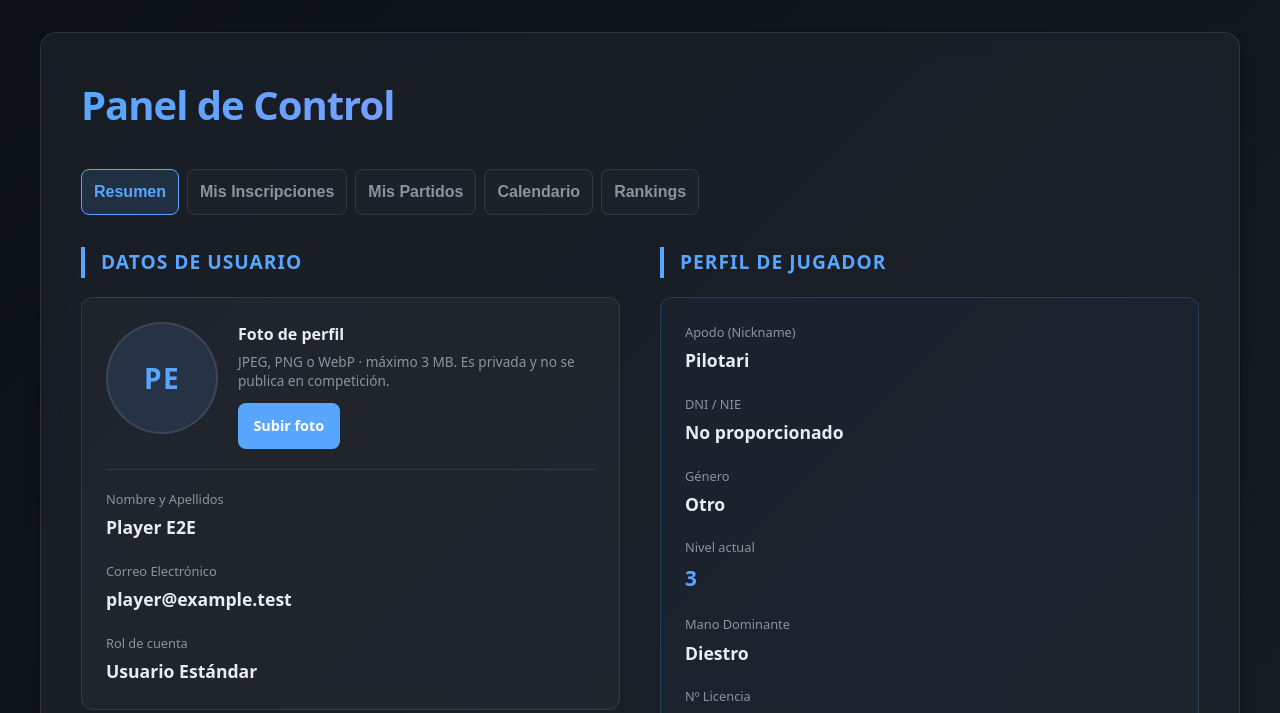
Test: Dashboard › activates tabs with click, Enter and Space while preserving lazy loading
Click the tab "Mis Inscripciones". click: (267, 192)
box: [187,169,347,215]
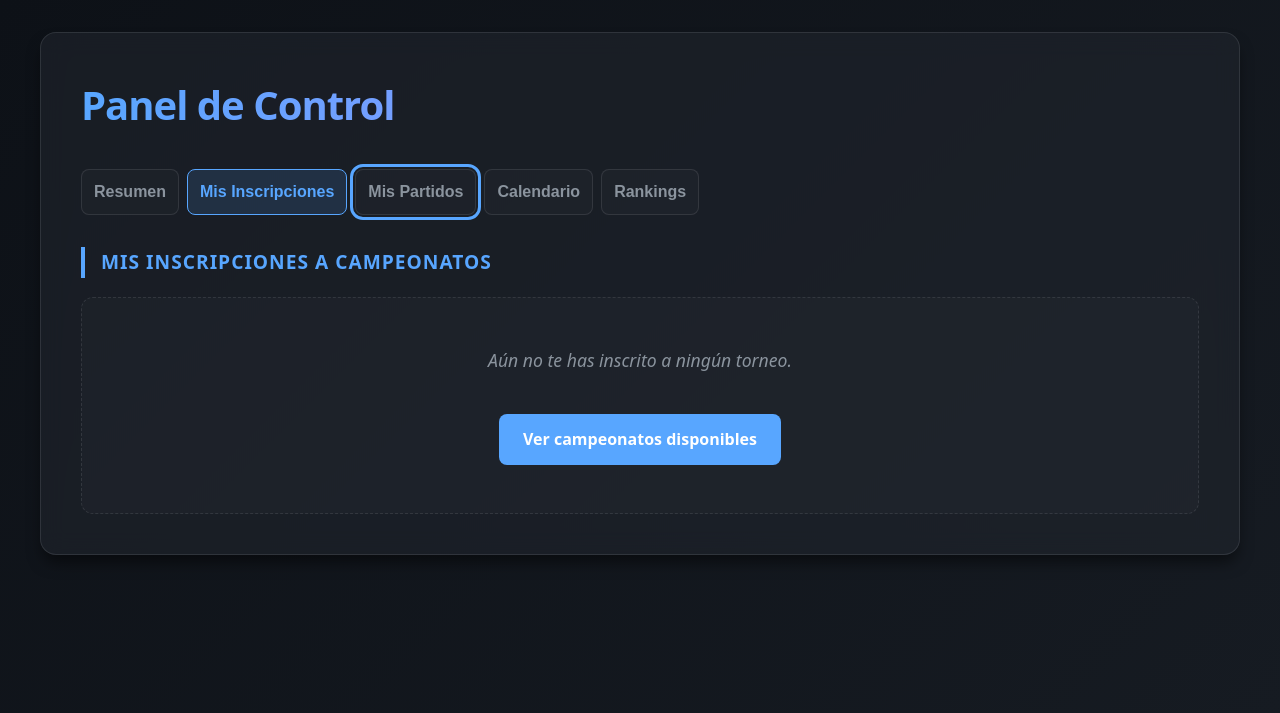
Expected: the text "Aún no te has inscrito a ningún torneo." is shown, [488,348,792,372]
Press Enter
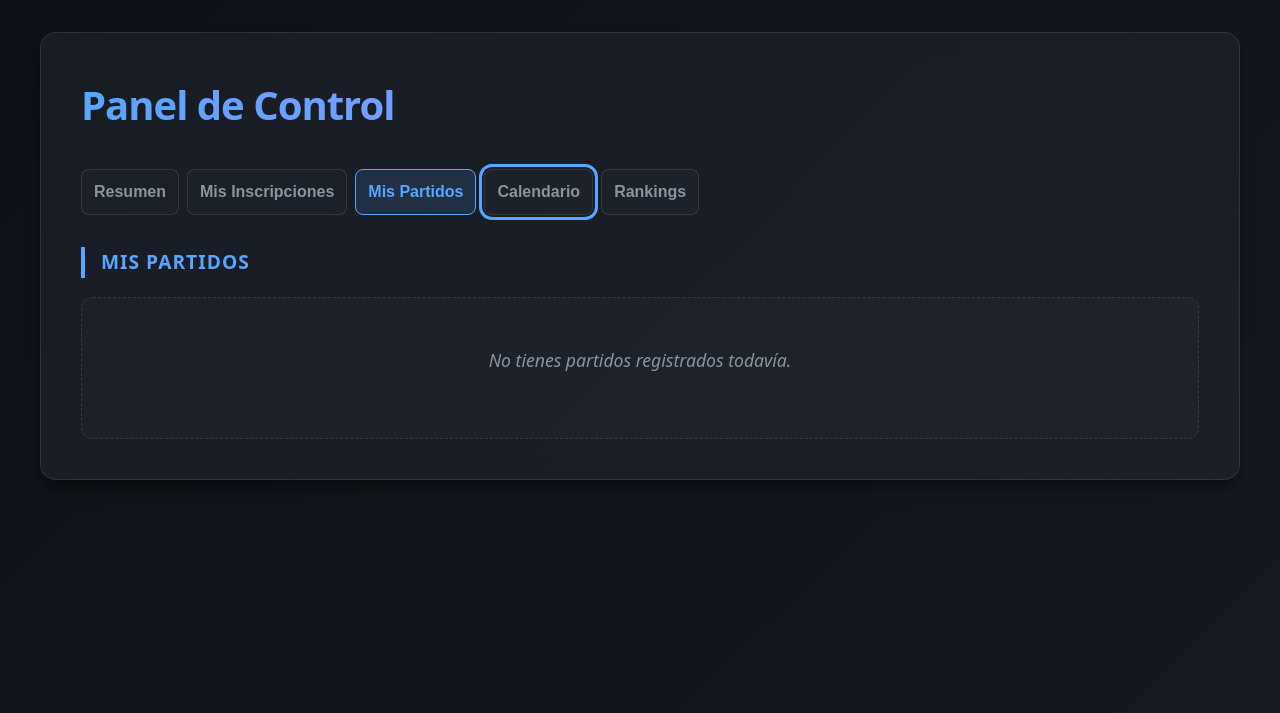
Expected: the text "No tienes partidos registrados todavía." is shown, [489,348,791,372]
Type keys " "
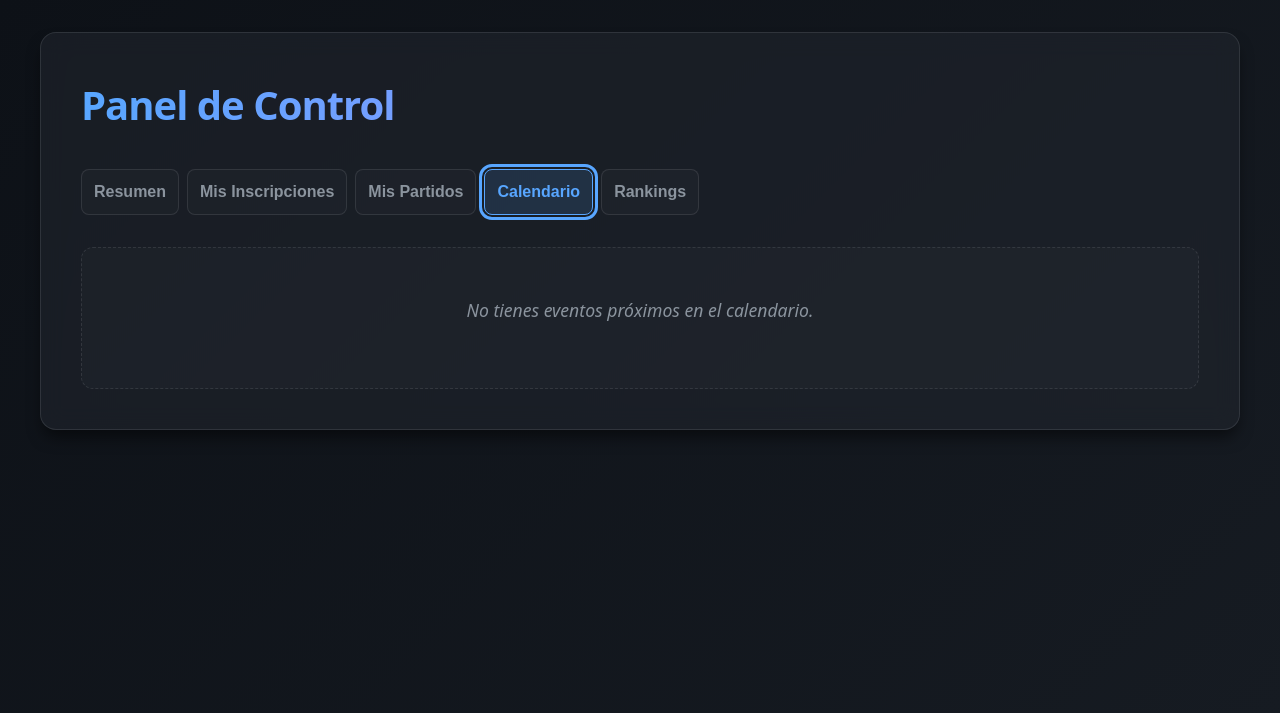
Expected: the text "No tienes eventos próximos en el calendario." is shown, [466,298,814,322]
Click the tab "Rankings". click: (650, 192)
box: [601,169,699,215]
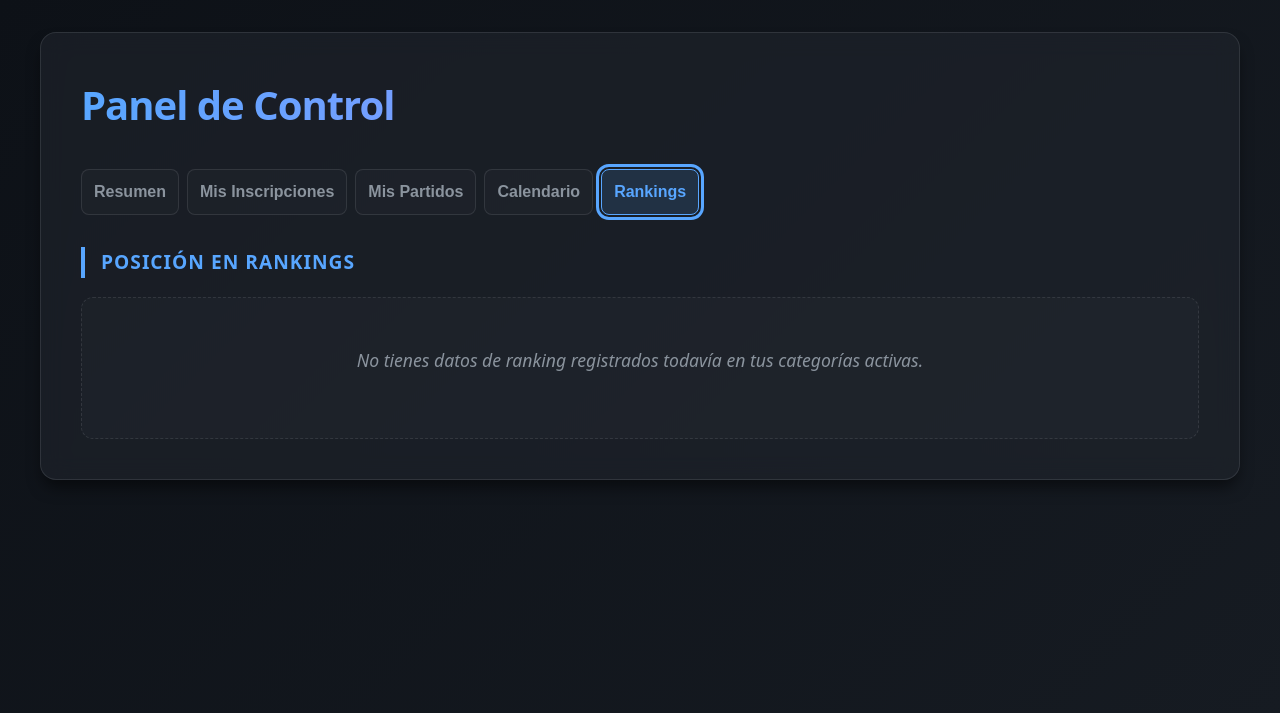
Expected: the text "No tienes datos de ranking registrados" is shown, [357,348,923,372]
